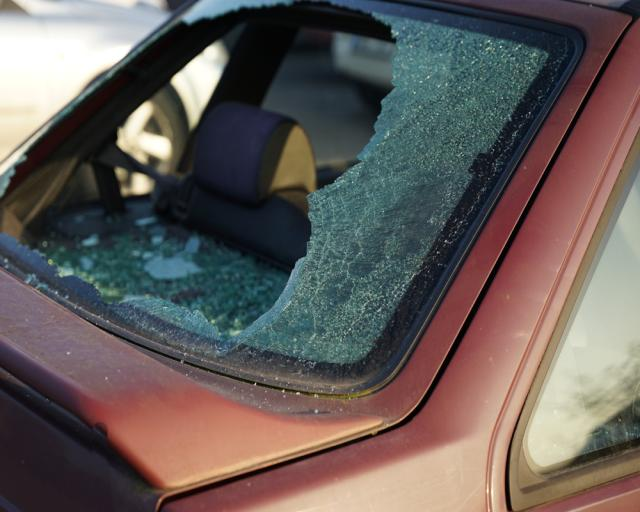glass shatter: (0, 0, 574, 386)
